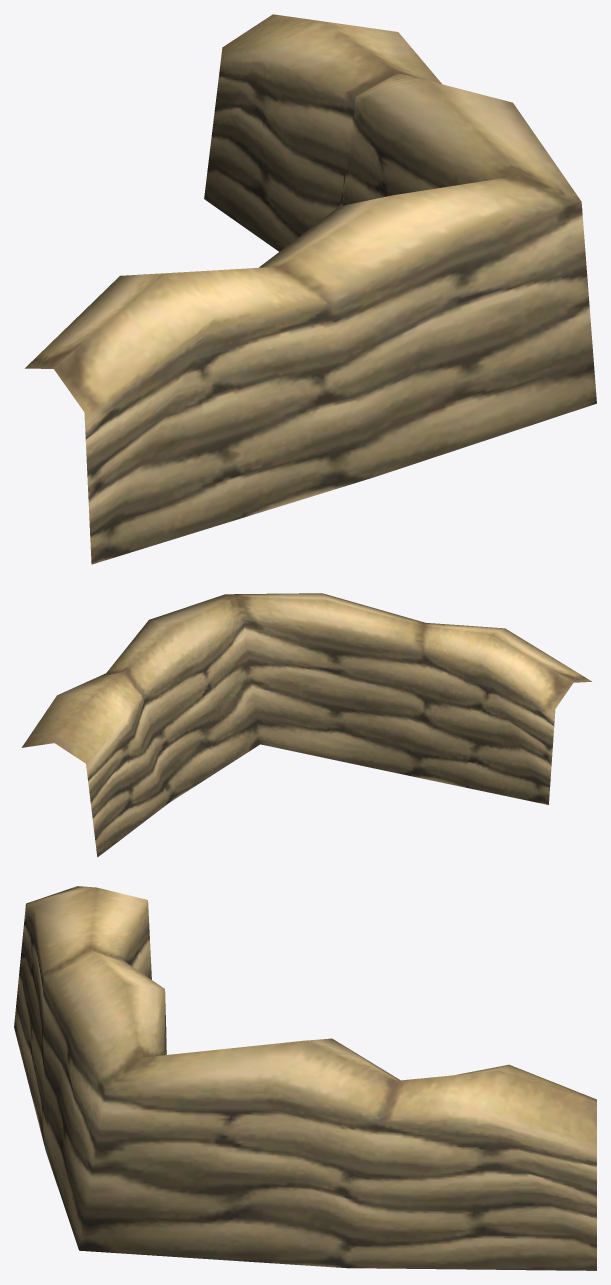
File: Sandbags2_Med_Corner.glb
3 views of the same model, one above another, from view 1: azimuth 30°, elevation 25°; view 2: azimuth 150°, elevation 25°; view 3: azimuth 270°, elevation 25° (orthographic). The views are drawn at different scales.
Parts seen in each view (by area): view 1: SANDBAGS2_MED_CORNER; view 2: SANDBAGS2_MED_CORNER; view 3: SANDBAGS2_MED_CORNER.
Part boxes in pixels (left/top/right/bottom): SANDBAGS2_MED_CORNER: left=25, top=14, right=596, bottom=564; SANDBAGS2_MED_CORNER: left=21, top=593, right=591, bottom=857; SANDBAGS2_MED_CORNER: left=14, top=886, right=596, bottom=1270.
Bounding box in the file's own units: 2.27 × 0.85 × 2.29.
1 material, 1 textured.
